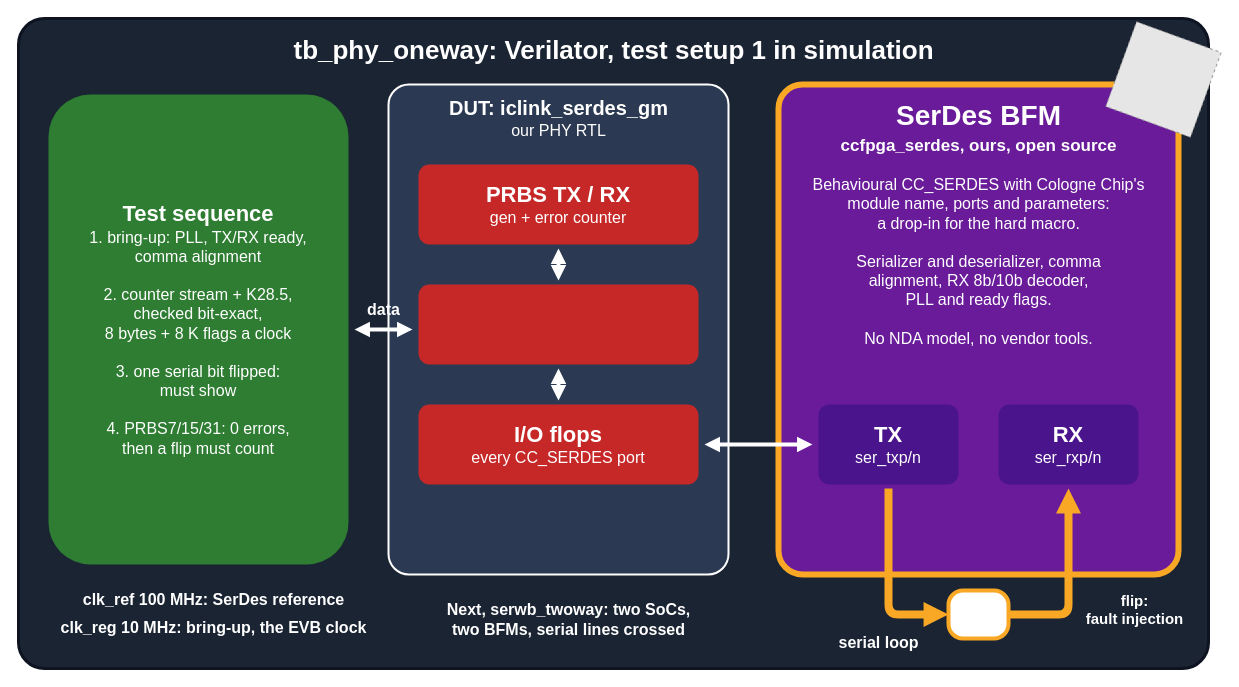
This 1239x687 diagram has some shape labels left out. Grey dashed boxes stand in for pictures. The shapes that lost their labels are listed below. From the top down, each one's centre as x and y in pixels, then its label:
At (558,324): "8b/10b encoder fabric, TX".
At (978,614): "XOR".
